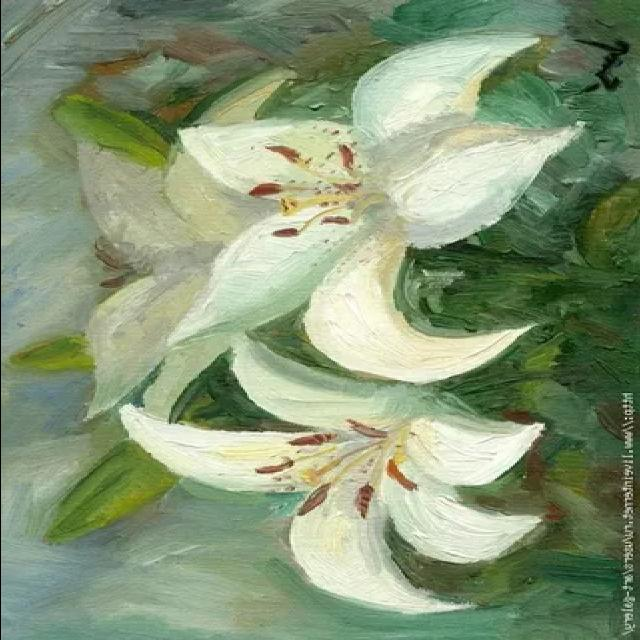lily: (144, 32, 586, 394)
